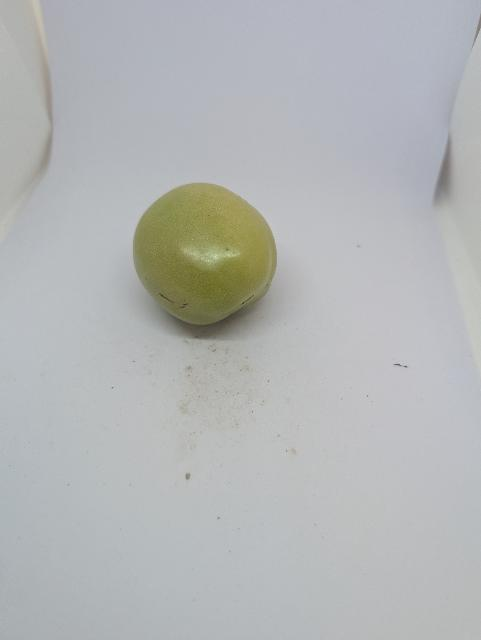green: (131, 180, 278, 326)
